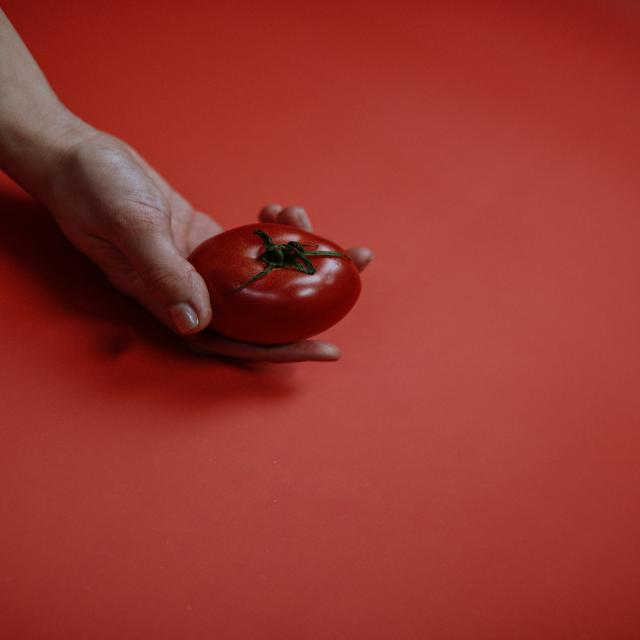Tomato: (180, 218, 368, 353)
